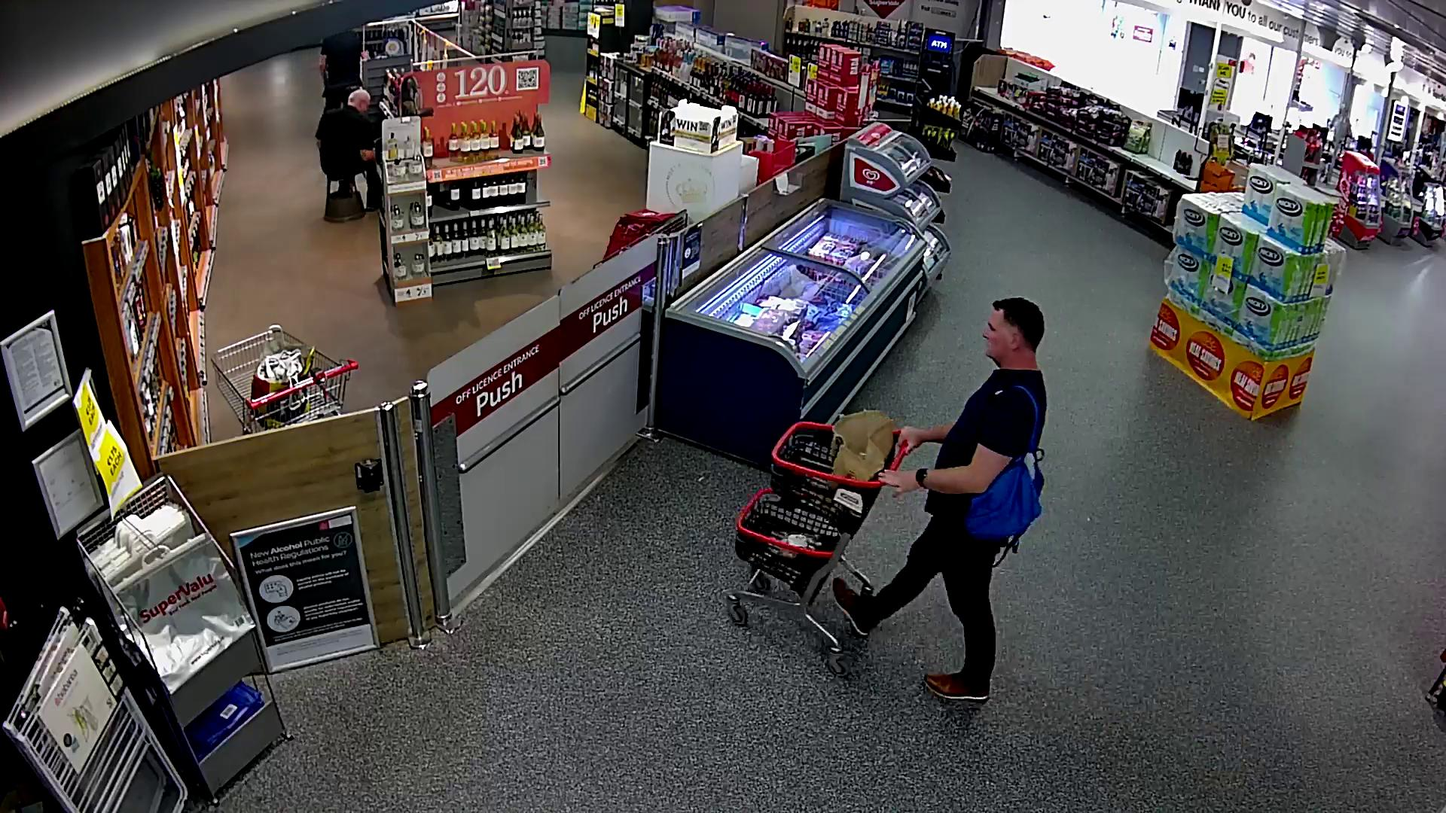backpack-or-handbag: (967, 447, 1047, 546)
filled-shopping-bags: (830, 407, 895, 481)
filled-trolly: (727, 417, 908, 673)
person: (831, 297, 1046, 703)
person-with-basket-trolly-shopping-bag-s-and-backpack-handbag: (727, 296, 1047, 705)
